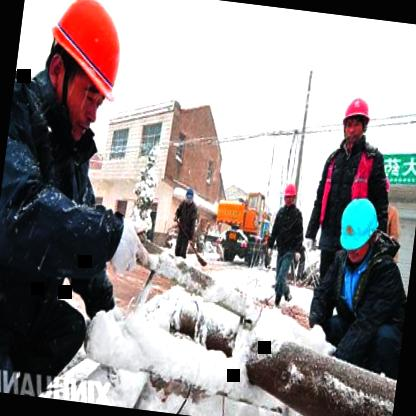helmet: (31, 0, 137, 144), (332, 192, 381, 262), (338, 91, 374, 149), (280, 180, 298, 212)
